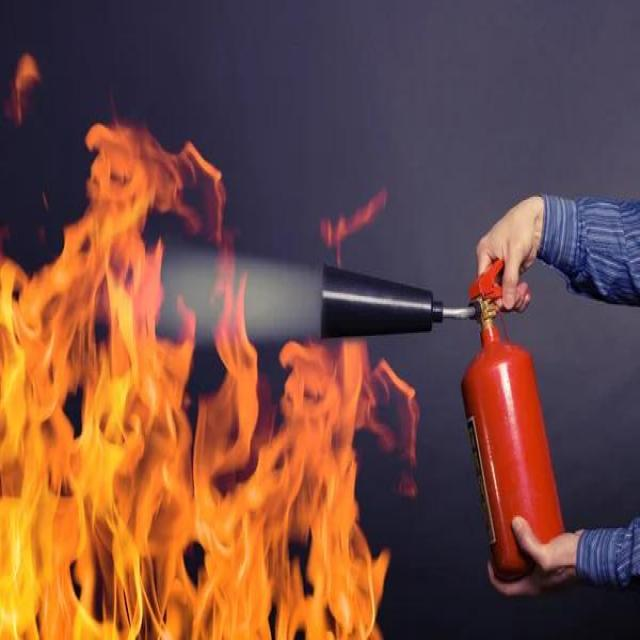fire_extinguisher: (316, 230, 574, 592)
